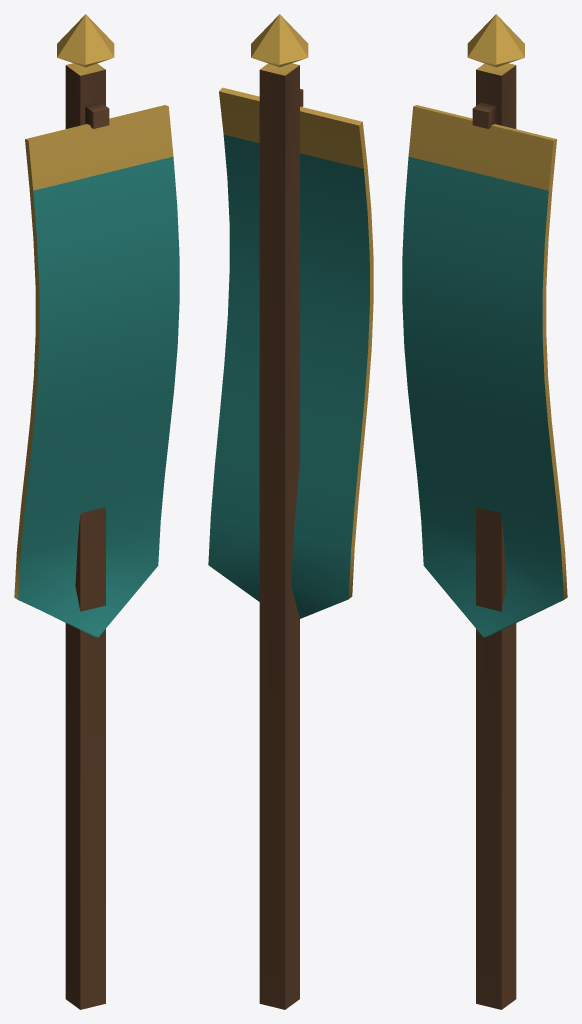
File: BannerTeal.glb
The picture shows the model from 3 angles, left to right: view 1: azimuth 30°, elevation 25°; view 2: azimuth 150°, elevation 25°; view 3: azimuth 330°, elevation 25°; orthographic projection.
Parts seen in each view (by area): view 1: Flag, Pole.001; view 2: Flag, Pole.001; view 3: Flag, Pole.001.
Part boxes in pixels (box(x1,y1,x2,y2)): Flag: box(14, 105, 179, 637); Pole.001: box(57, 14, 114, 1009); Flag: box(208, 87, 373, 618); Pole.001: box(251, 14, 308, 1009); Flag: box(402, 105, 567, 637); Pole.001: box(467, 14, 524, 1009).
Size of the model in its own units: 2.2 by 14.8 by 1.03.
